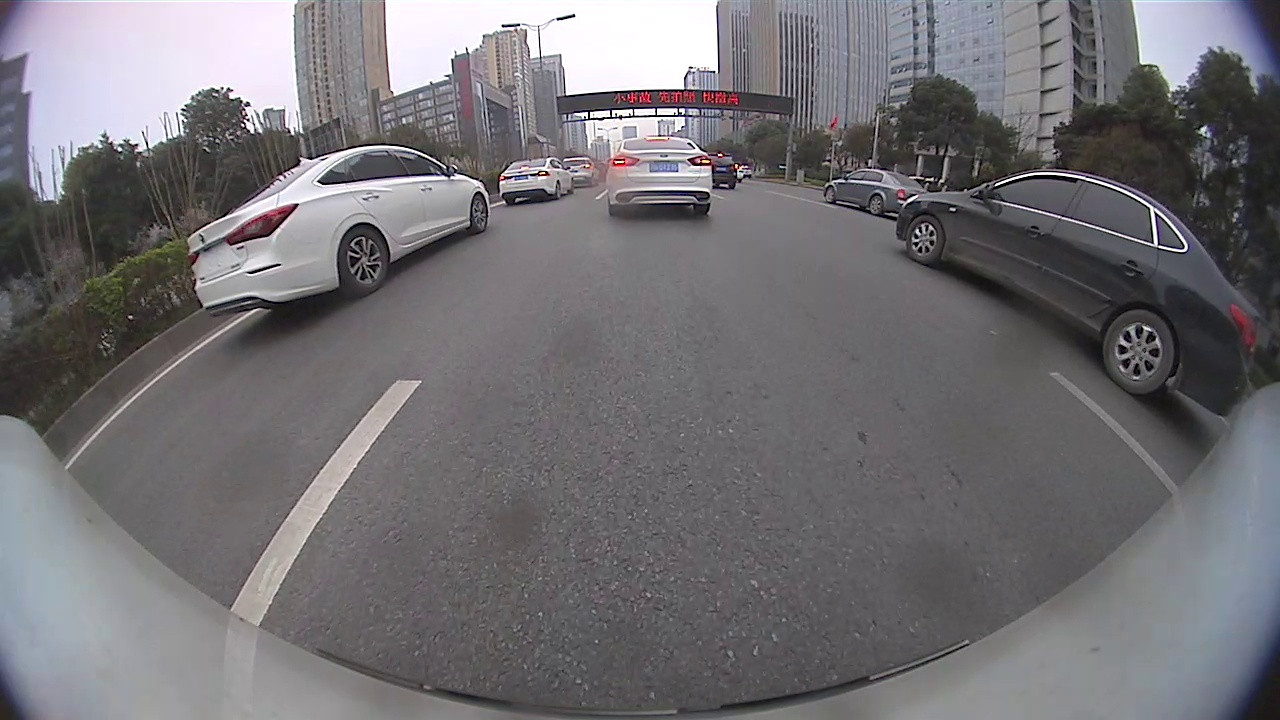car: (893, 167, 1263, 418), (186, 145, 492, 319), (605, 136, 713, 216), (823, 167, 925, 216), (498, 155, 574, 206), (562, 155, 600, 188), (708, 153, 738, 190)
front: (903, 211, 947, 267), (469, 188, 491, 235), (822, 183, 835, 204)
rear: (1105, 306, 1177, 394), (339, 227, 394, 297), (865, 188, 883, 217), (554, 180, 562, 201)
